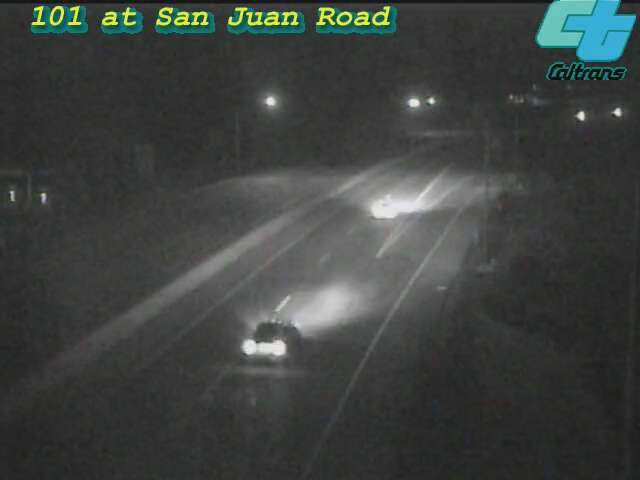vehicle: (216, 285, 326, 395), (344, 170, 424, 250), (554, 91, 604, 141), (590, 87, 640, 137)
